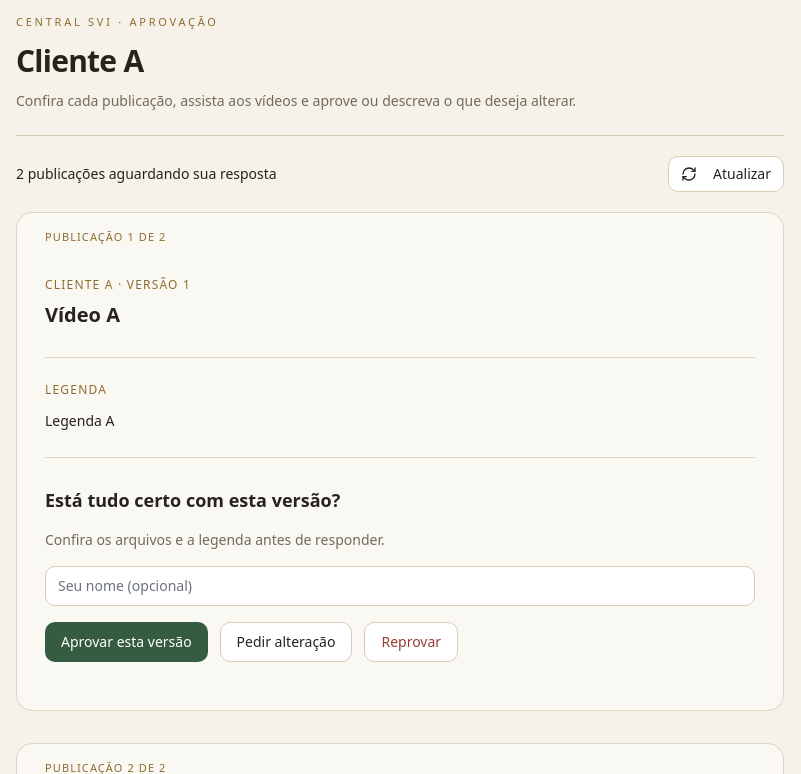
it: client reviews several pieces on one page › does not claim approval when a newer version caused a conflict
The width and height of the screenshot is (801, 774).
Type "Maria" into the field labelled "Seu nome" at (400, 586), box [45, 566, 755, 606]
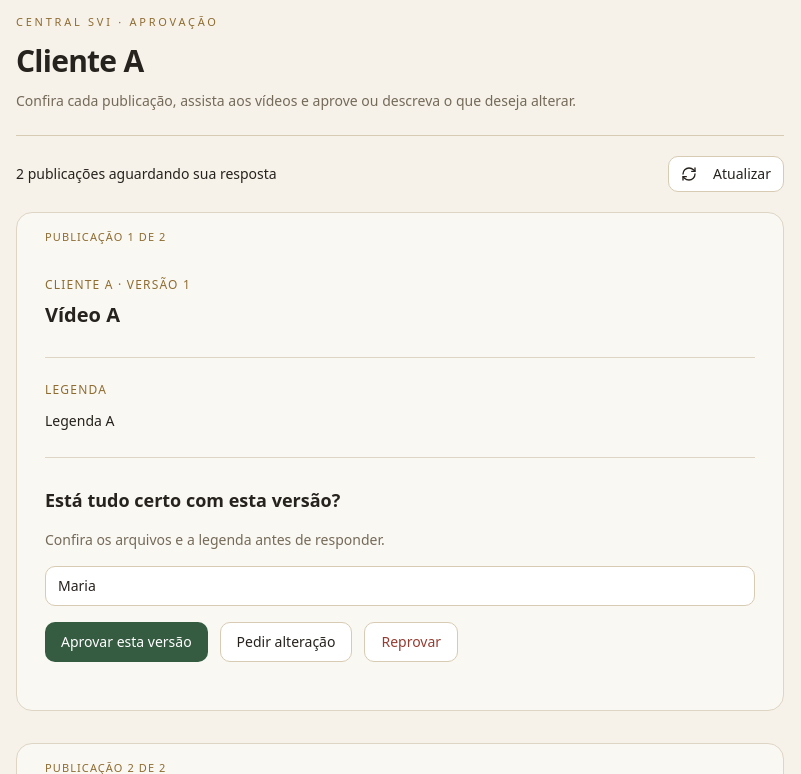
Click the button "Aprovar esta versão" at (126, 642), box [45, 622, 208, 662]
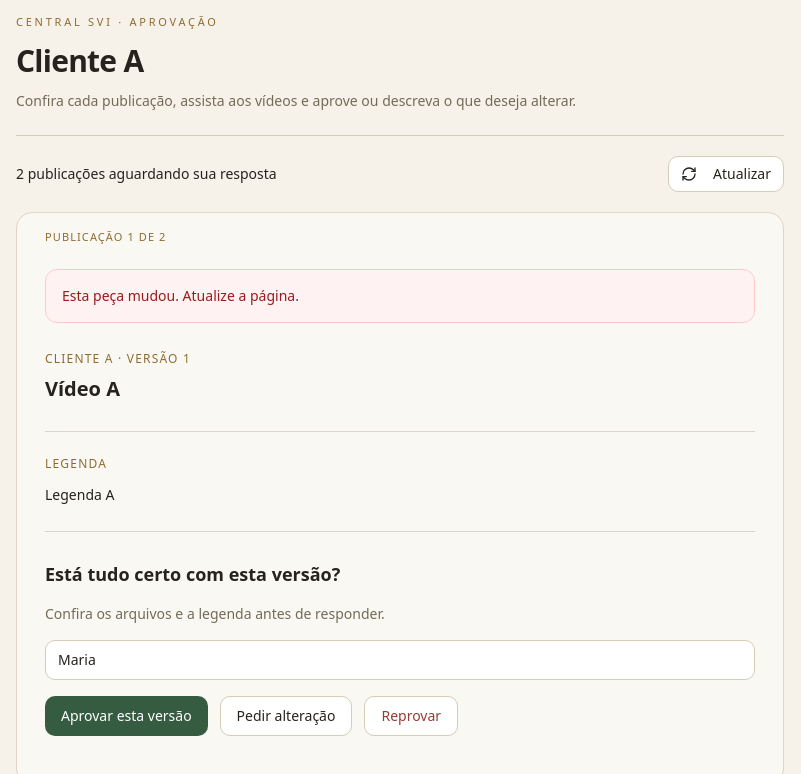
Expected: the message "2 publicações aguardando sua resposta" is shown, [16, 164, 277, 184]
Expected: the message "Esta peça mudou. Atualize a página." is shown, [45, 269, 755, 323]
